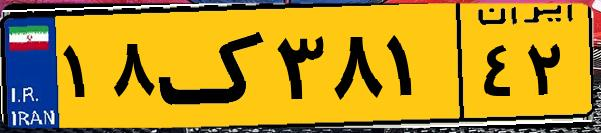1: (385, 28, 445, 110), (57, 26, 110, 100)
2: (525, 38, 570, 115)
3: (270, 28, 330, 110)
4: (475, 38, 525, 113)
8: (330, 28, 385, 110), (110, 28, 158, 98)
ک: (158, 12, 270, 120)
